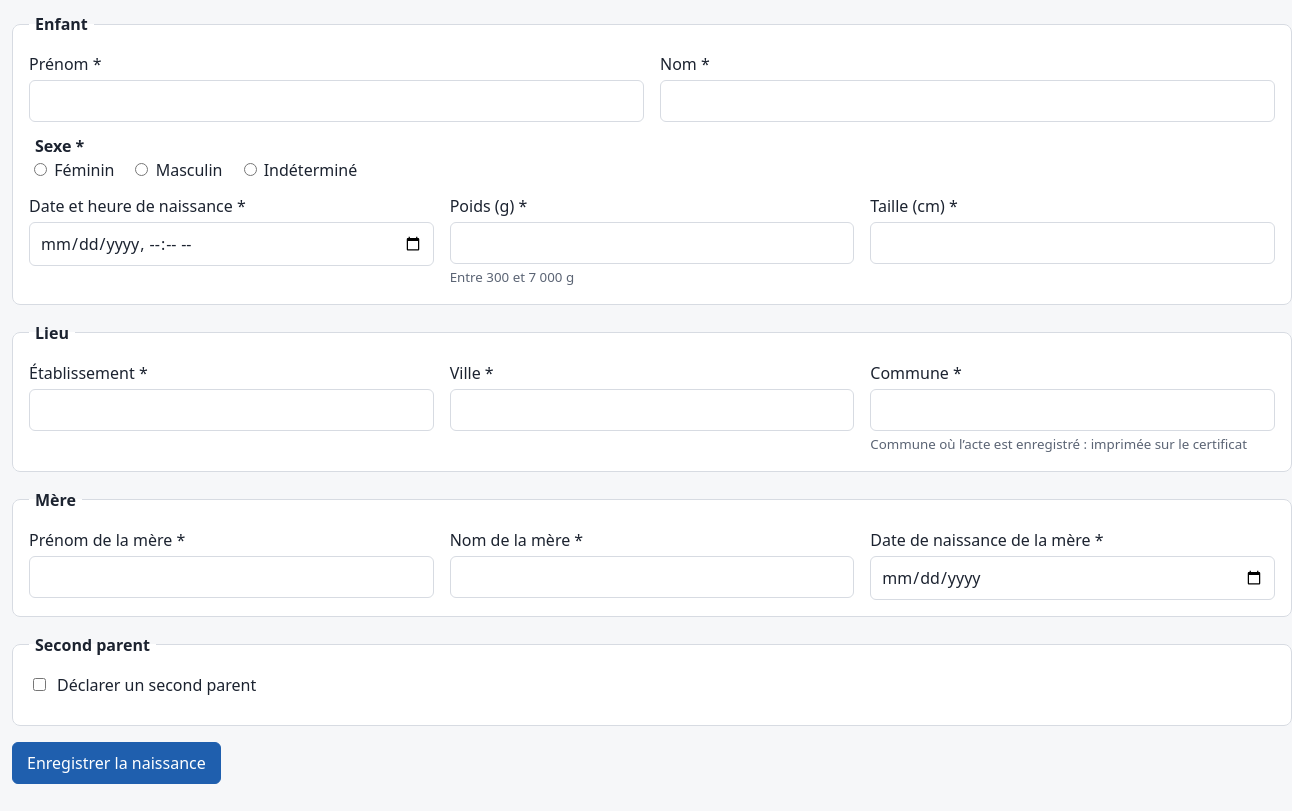
<NaissanceForm /> › affiche les erreurs sous les champs et n’appelle pas l’API si le formulaire est vide
Click the button "Enregistrer la naissance" at (116, 763), box [12, 742, 221, 784]
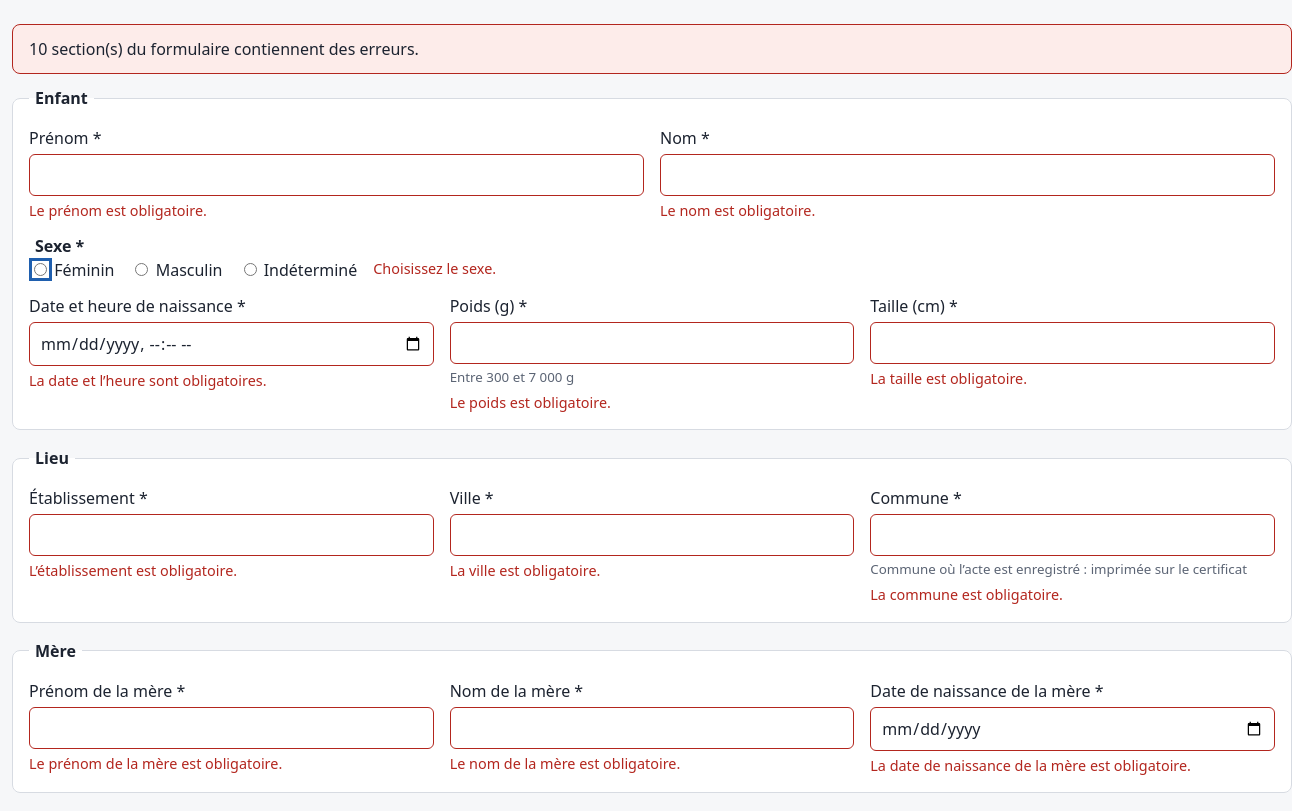
Result: the text "Le prénom est obligatoire." is shown at [29, 201, 207, 220]
Result: the text "Le poids est obligatoire." is shown at [450, 393, 611, 412]
